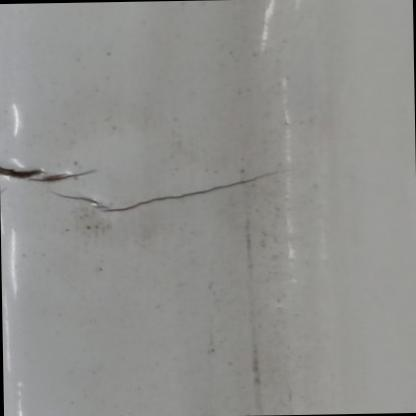Crack: (0, 120, 305, 260)
